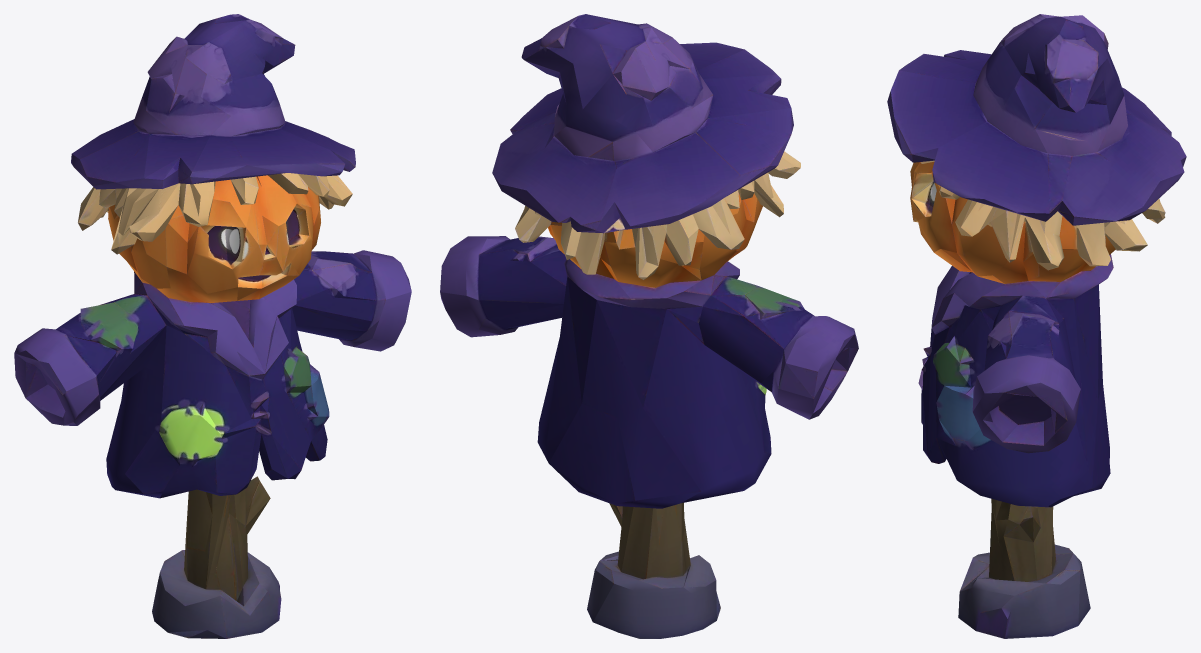
File: scarecrow.glb
3 renders of one model, left to right at view 1: azimuth 30°, elevation 25°; view 2: azimuth 150°, elevation 25°; view 3: azimuth 270°, elevation 25°, orthographic. The views are drawn at different scales.
Size of the model in its own units: 1.3 by 1.89 by 0.8531.
1 material, 1 textured.
